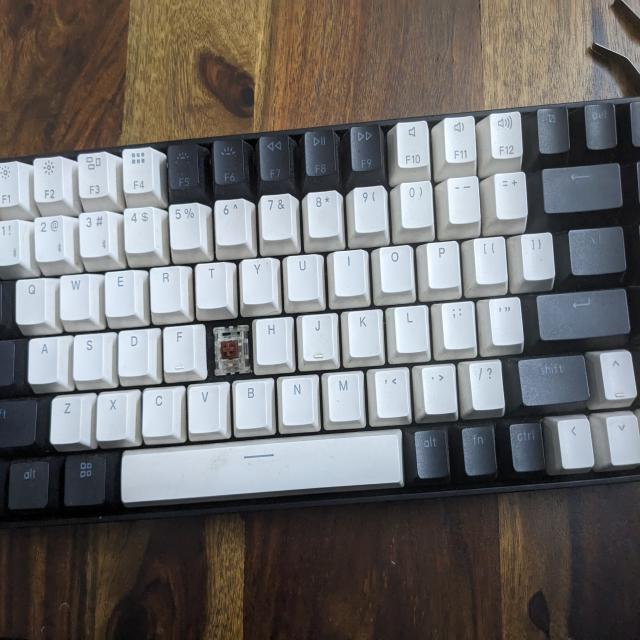C: (211, 326, 250, 372)
